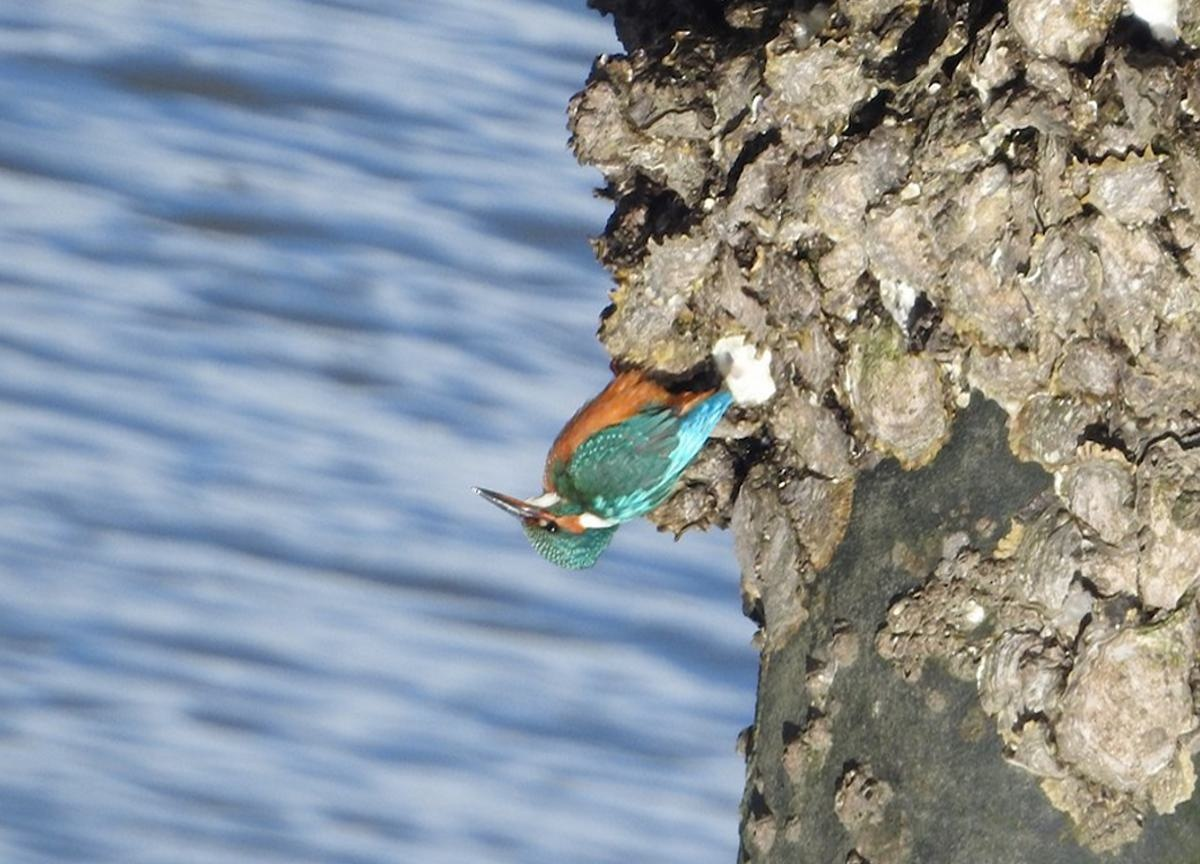kingfisher: (485, 331, 715, 570)
